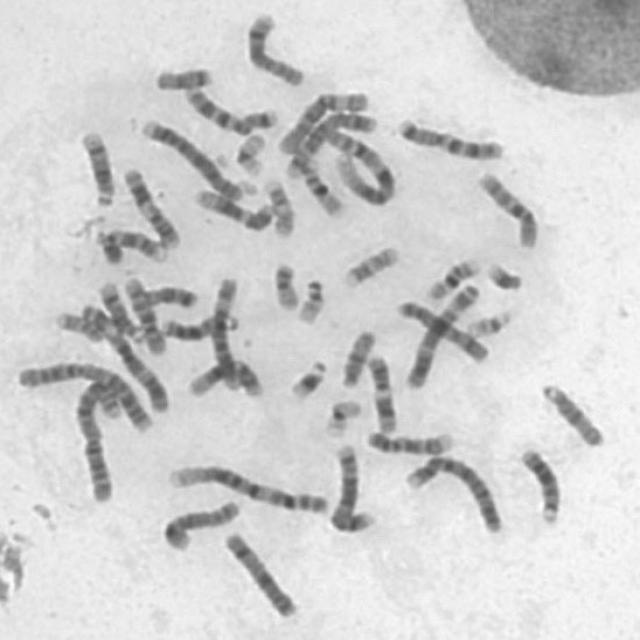A1: (162, 456, 336, 517), (319, 115, 399, 208)
A2: (11, 353, 158, 435), (69, 363, 147, 504)
A3: (74, 298, 172, 415), (399, 276, 484, 391)
B4: (136, 110, 251, 202), (399, 447, 508, 536)
B5: (280, 104, 380, 181), (324, 436, 379, 534)
C10: (472, 164, 543, 250), (118, 269, 169, 357)
C11: (117, 161, 183, 250), (361, 348, 402, 434)
C12: (188, 182, 279, 232), (182, 352, 268, 400)
C6: (273, 83, 374, 155), (206, 270, 245, 393)
C7: (391, 110, 509, 162), (178, 80, 282, 135)
C8: (240, 4, 310, 88), (158, 494, 245, 552)
C9: (91, 222, 173, 264), (361, 423, 458, 457)
D13: (514, 440, 566, 527), (157, 307, 244, 342)
D14: (92, 274, 147, 344), (74, 123, 119, 208)
D15: (535, 376, 610, 450), (335, 323, 380, 390)
E16: (421, 252, 484, 304), (297, 156, 348, 218)
E17: (338, 238, 404, 289), (258, 172, 299, 239)
E18: (148, 59, 216, 92), (137, 278, 201, 310)
F19: (230, 125, 270, 178), (320, 392, 366, 438)
F20: (50, 304, 106, 344), (268, 255, 302, 311)
G21: (282, 352, 332, 402), (480, 254, 527, 294)
G22: (290, 271, 329, 326), (462, 302, 516, 339)
X: (218, 525, 302, 620), (391, 292, 495, 364)
